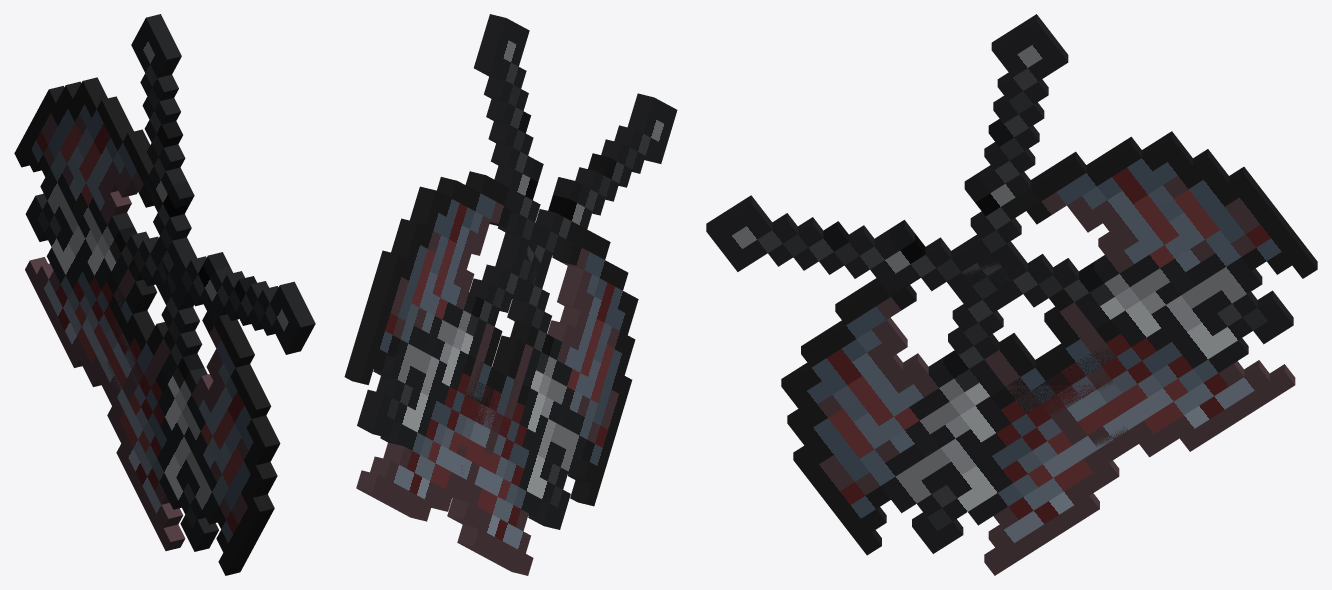
The model's file is dragonsteel_fire_axe.glb.
The picture shows the model from 3 angles, left to right: view 1: azimuth 30°, elevation 25°; view 2: azimuth 150°, elevation 25°; view 3: azimuth 270°, elevation 25°; orthographic projection. The views are drawn at different scales.
Parts seen in each view (by area): view 1: off__Tool_L, main__Tool_R; view 2: main__Tool_R, off__Tool_L; view 3: main__Tool_R, off__Tool_L.
Boxes of the visible parts, x1=… form: off__Tool_L: x1=98, y1=14, x2=280, y2=575; main__Tool_R: x1=14, y1=77, x2=315, y2=405; main__Tool_R: x1=344, y1=93, x2=677, y2=521; off__Tool_L: x1=447, y1=14, x2=638, y2=575; main__Tool_R: x1=706, y1=131, x2=1317, y2=462; off__Tool_L: x1=781, y1=14, x2=1138, y2=575.
Bounding box in the file's own units: 0.0531 × 1.77 × 1.77.
1 material, 1 textured.
